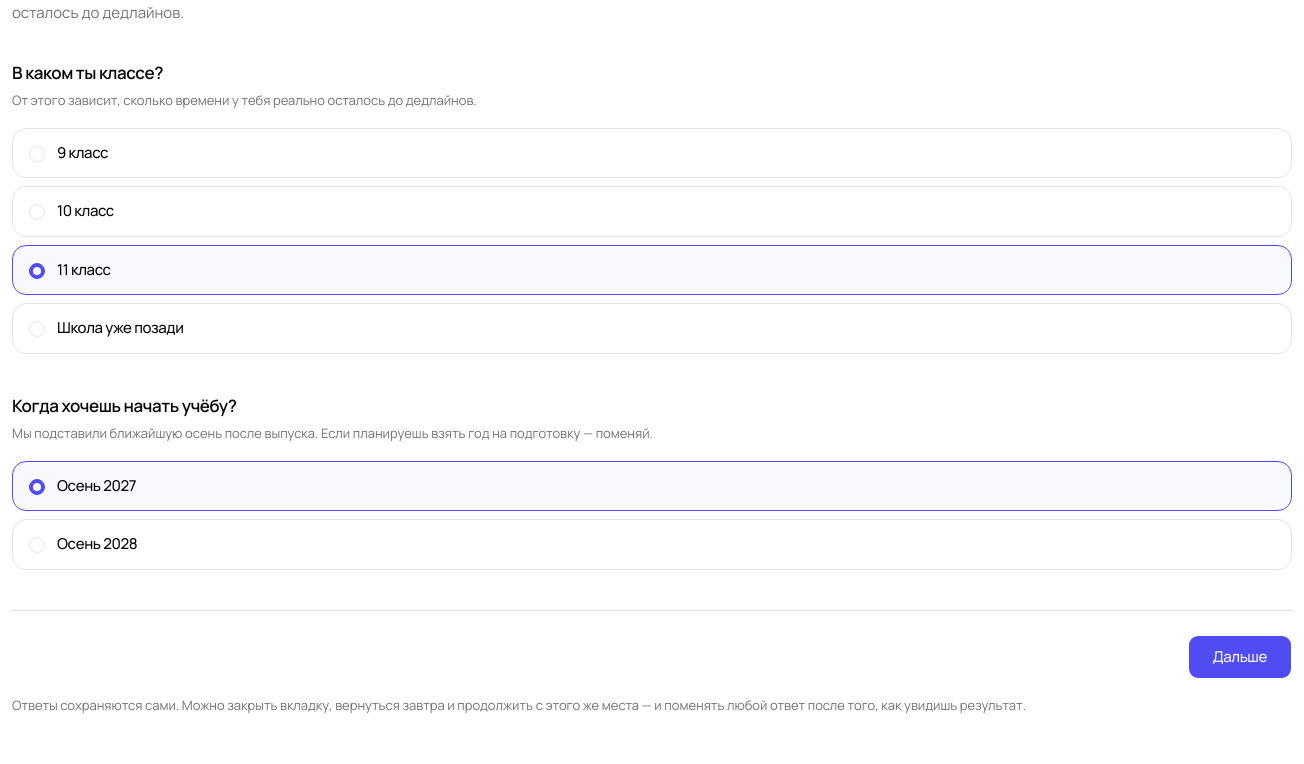
Test: Questionnaire › allows going back to the previous group
The width and height of the screenshot is (1304, 764).
(page scrolled)
Click the button "Дальше".
click(1240, 657)  # box [1188, 635, 1292, 679]
(page scrolled)
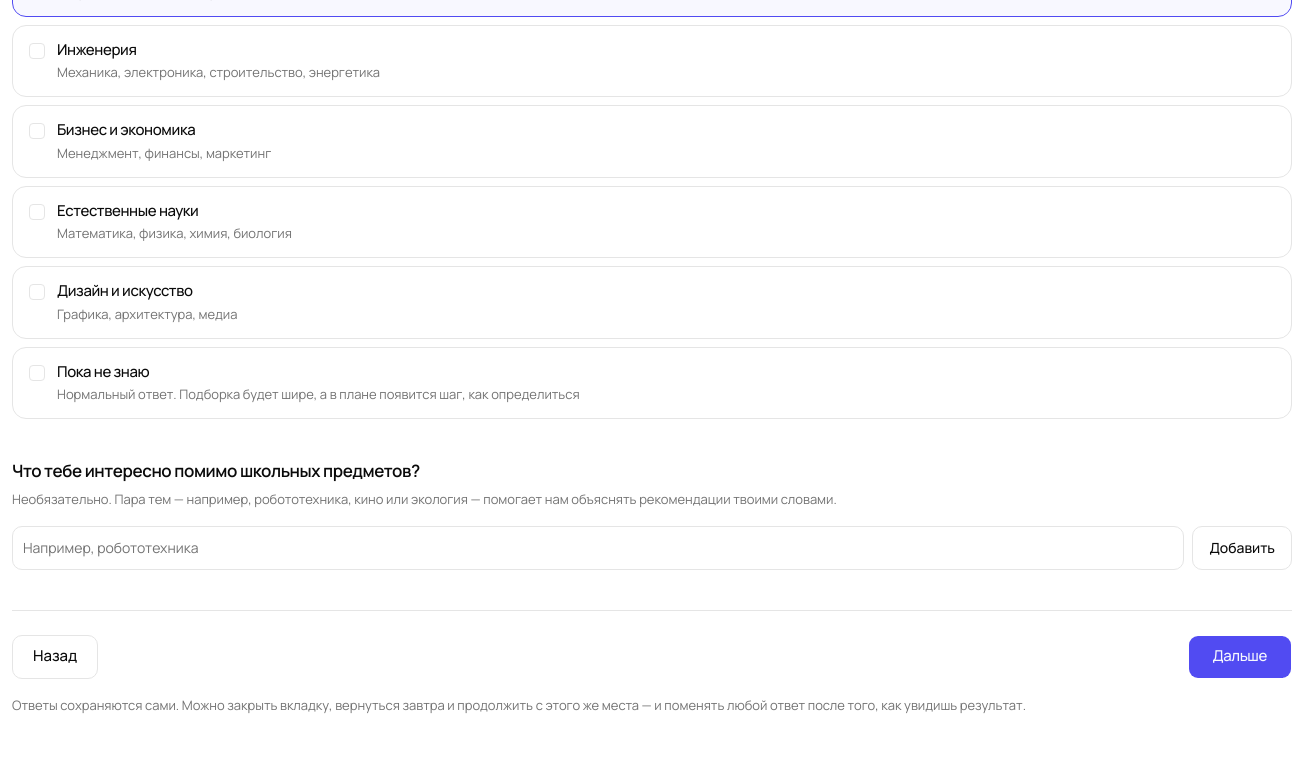
Click the button "Назад".
click(55, 657)  # box [12, 635, 98, 679]
(page scrolled)
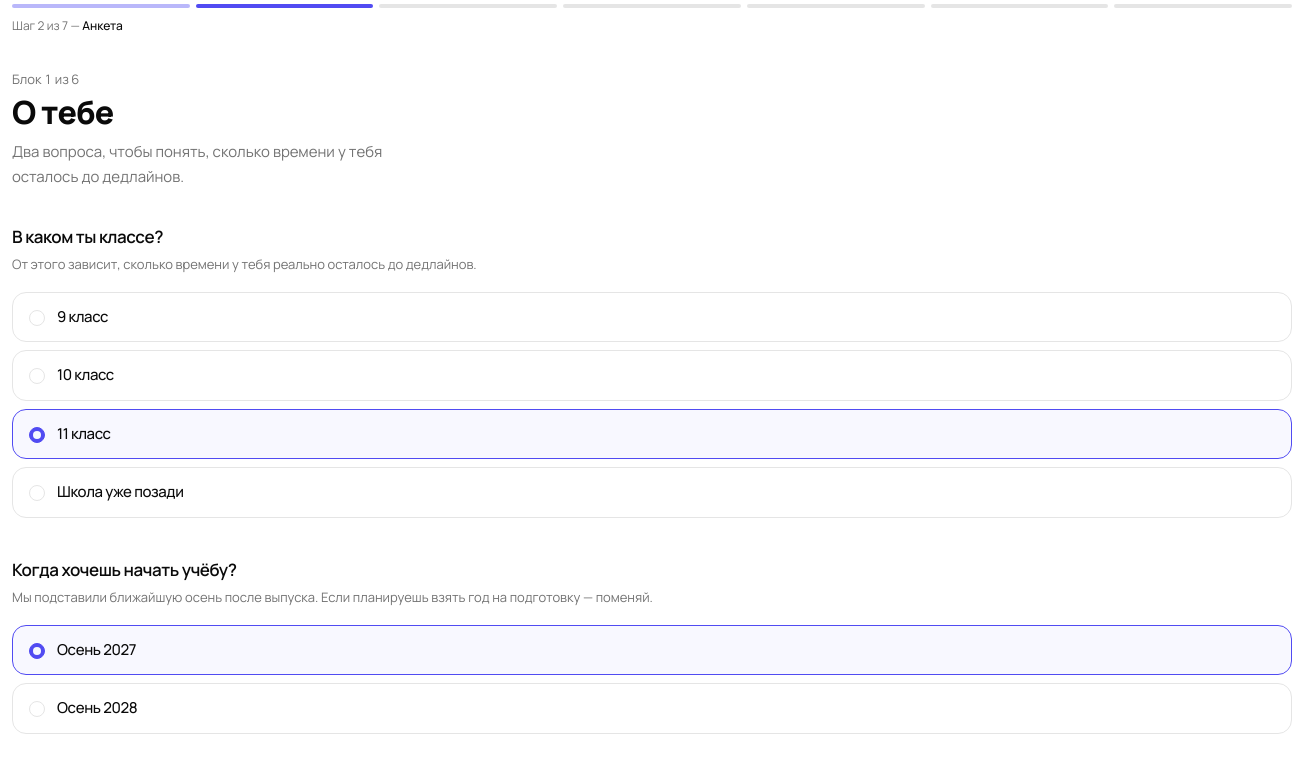
Expected: the heading reads "О тебе", [12, 90, 113, 134]
